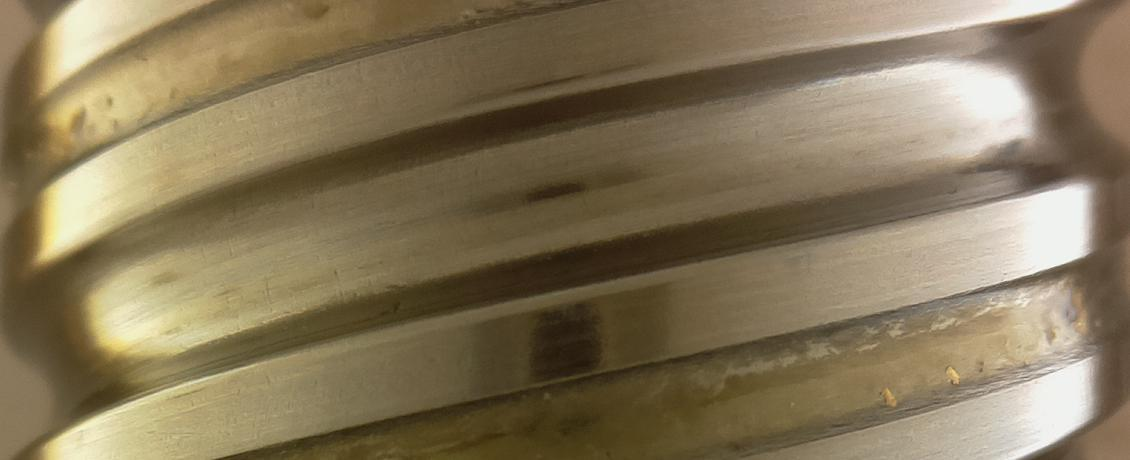pitting: (384, 284, 406, 312)
